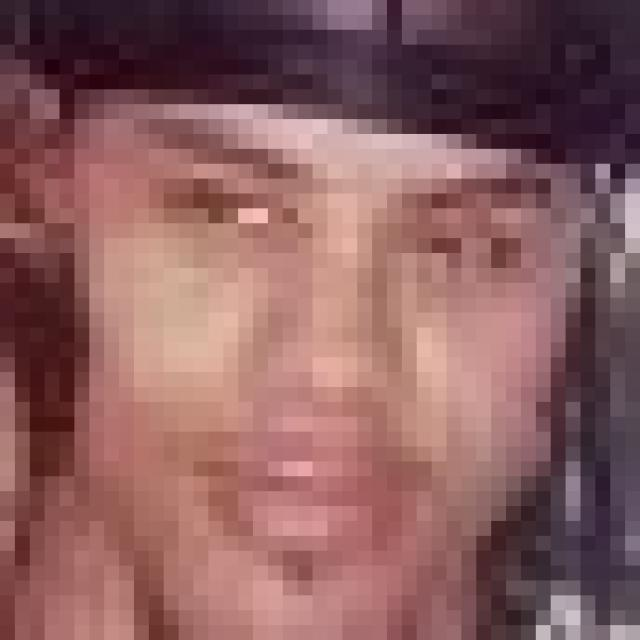Eyeclosed: (179, 176, 298, 253), (412, 220, 518, 277)
